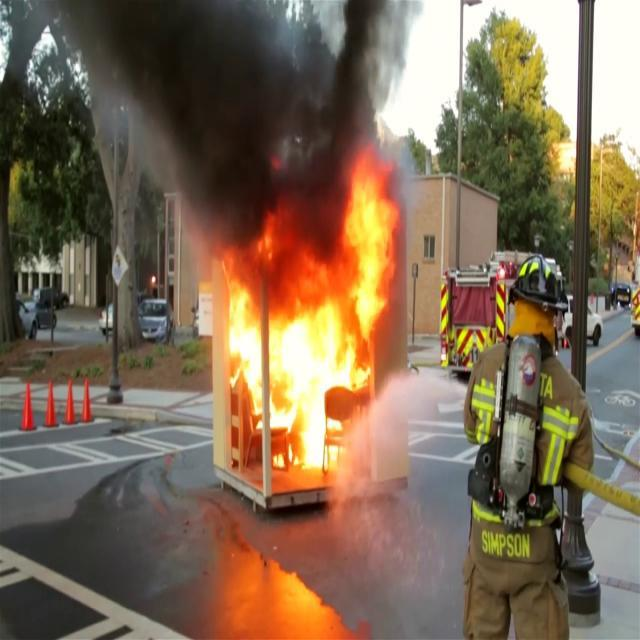Fire: (222, 167, 400, 474)
Smoke: (96, 0, 422, 238)
